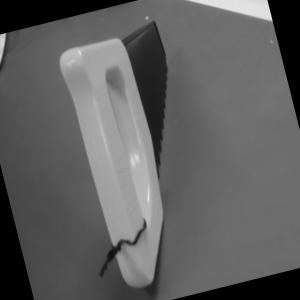serrote: (52, 15, 219, 296)
